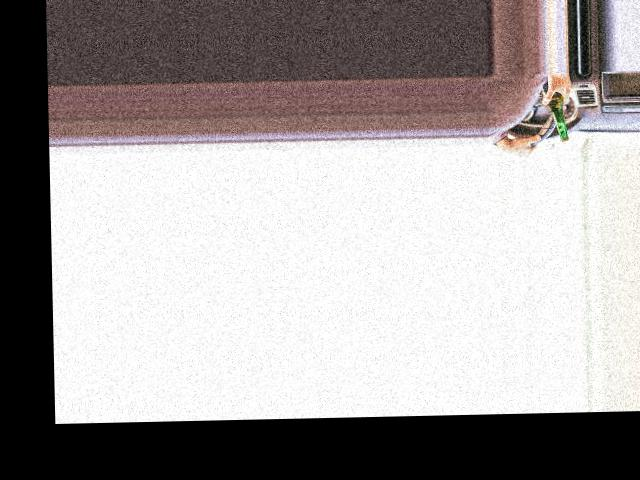beer: (539, 74, 569, 142)
